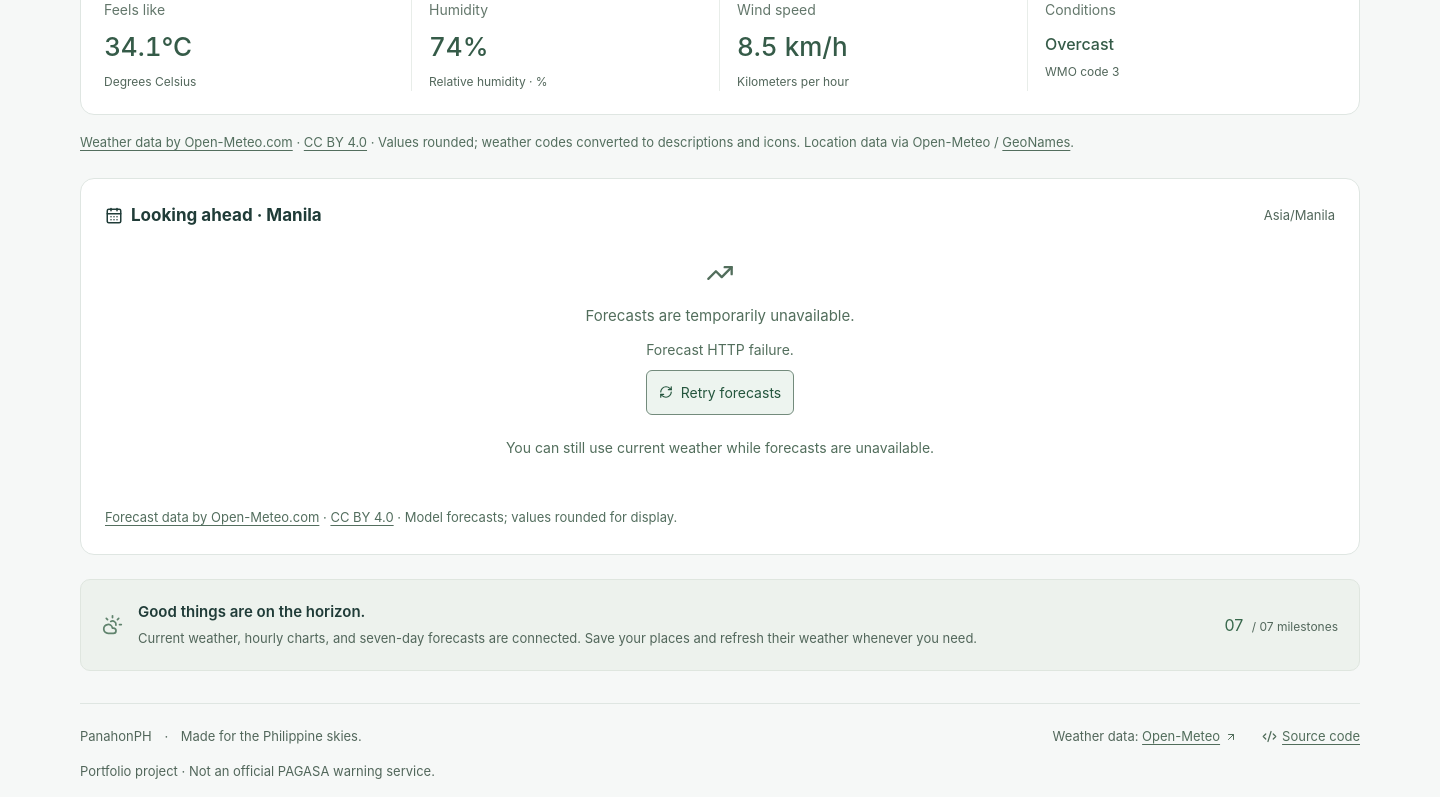
forecast requests alongside current weather › keeps current weather usable when forecasts fail and retries only forecasts
(page scrolled)
Expected: the text "Forecast HTTP failure." is shown, [646,341,794,358]
What coordinates should you click on to do the following:
click the button "Retry forecasts"
I would click on:
 (720, 392)
Its box is [646,370,794,415].
(page scrolled)
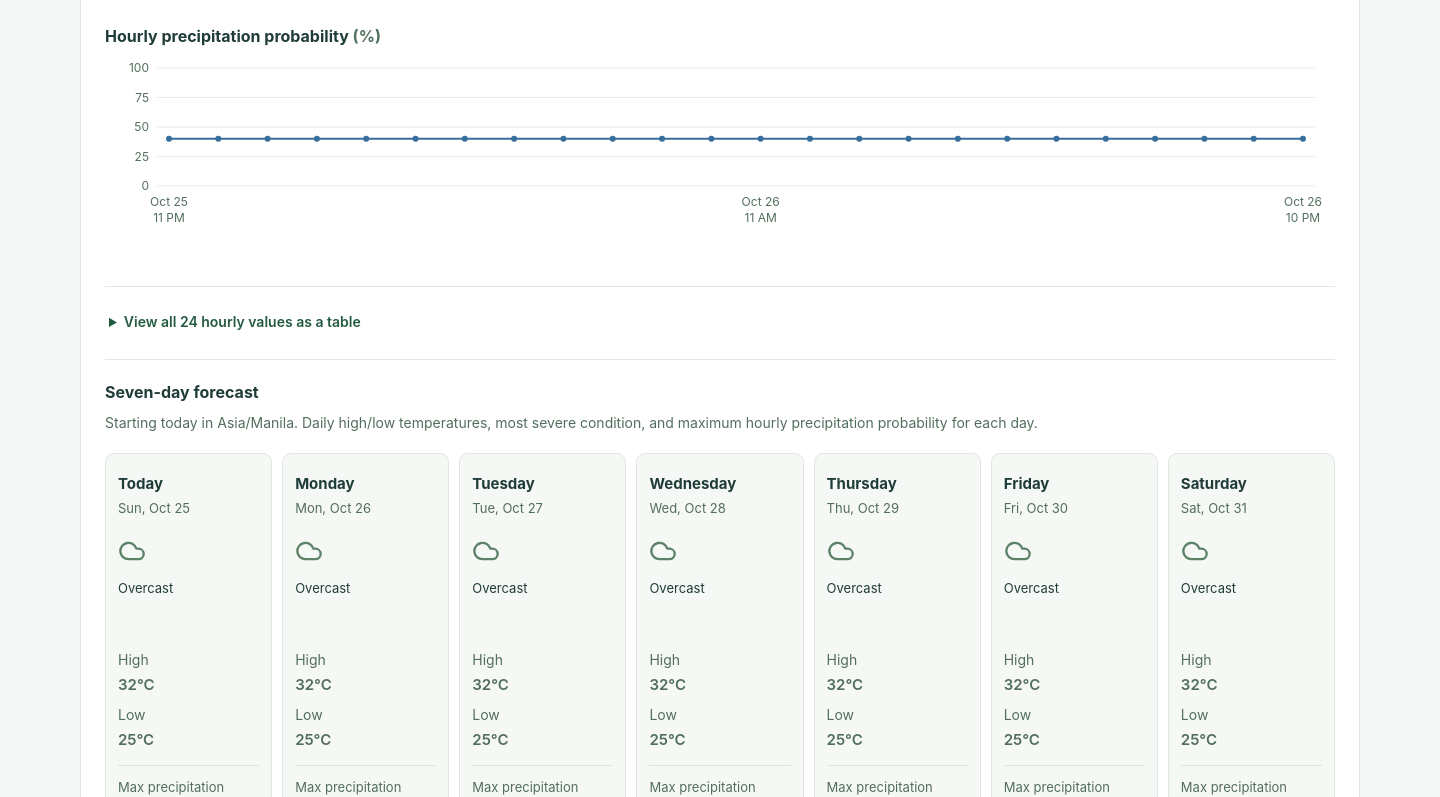
Expected: the heading "Seven-day forecast" is shown, [105,382,259,402]
